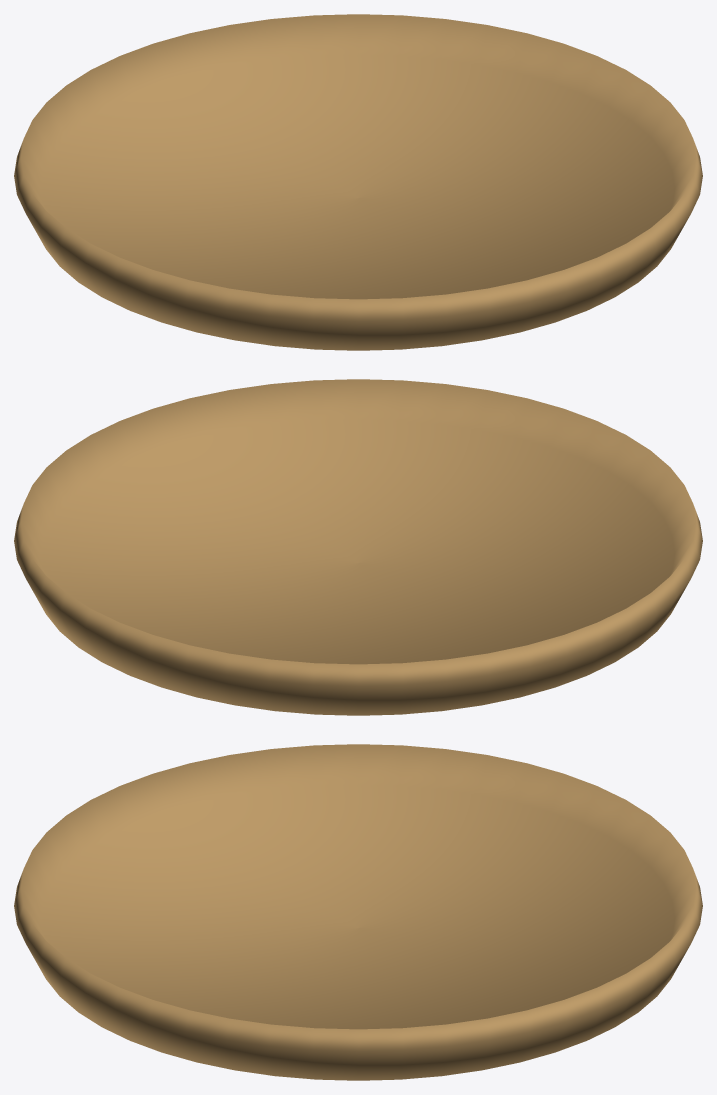
File: winnowing-tray-ultra.glb
The picture shows the model from 3 angles, top to bottom: view 1: azimuth 30°, elevation 25°; view 2: azimuth 150°, elevation 25°; view 3: azimuth 270°, elevation 25°; orthographic projection.
Visible parts, largest first — view 1: winnowing-tray; view 2: winnowing-tray; view 3: winnowing-tray.
Part boxes in pixels (x1,y1,x2,y2): winnowing-tray: (14, 14, 702, 350); winnowing-tray: (14, 379, 702, 715); winnowing-tray: (14, 744, 702, 1080).
Size of the model in its own units: 0.98 by 0.09 by 0.98.
